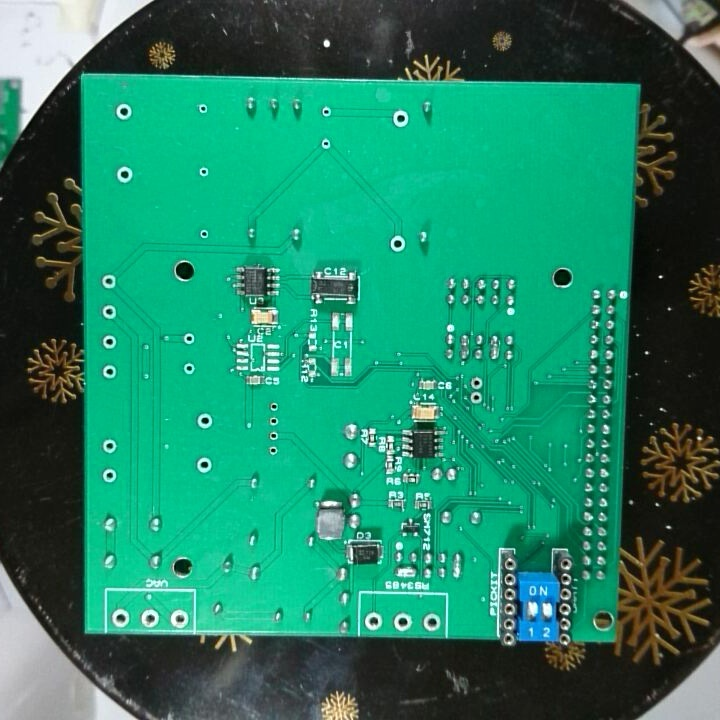F: (391, 607, 415, 635), (108, 606, 134, 631), (420, 609, 443, 634), (166, 607, 189, 631), (138, 606, 162, 629), (362, 609, 385, 632), (194, 409, 215, 434), (388, 233, 410, 255), (98, 272, 120, 294), (114, 165, 137, 186), (390, 107, 411, 129), (114, 101, 135, 123), (99, 300, 119, 323), (194, 454, 214, 476), (99, 331, 119, 351), (99, 363, 120, 382), (100, 437, 121, 456), (180, 329, 199, 348), (466, 389, 485, 408), (194, 99, 213, 117), (317, 133, 334, 153), (99, 466, 119, 483), (264, 443, 282, 460), (180, 360, 197, 377), (318, 104, 336, 120), (265, 428, 282, 444), (468, 374, 484, 391), (197, 225, 211, 244), (195, 163, 211, 178), (266, 399, 281, 414), (265, 414, 280, 429)
P: (450, 549, 467, 583), (391, 563, 419, 581), (457, 330, 471, 363), (488, 330, 501, 363)
